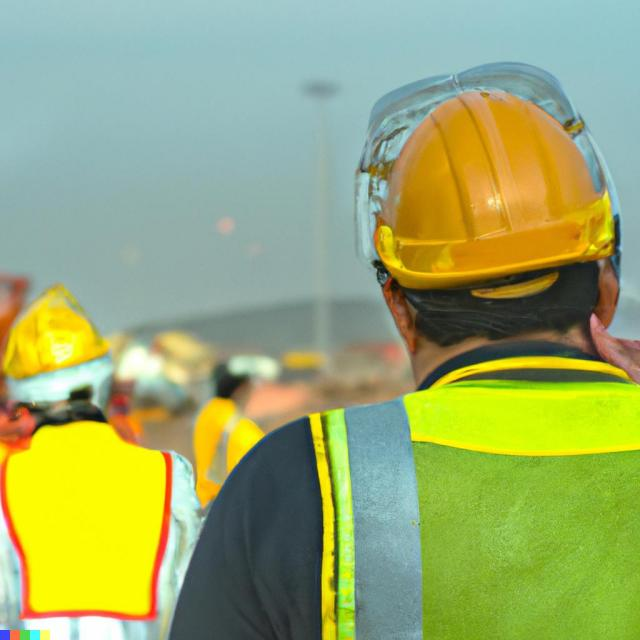Reflective-Jacket: (270, 366, 634, 632), (0, 420, 187, 630)
Safety-Helmet: (353, 74, 624, 292), (0, 284, 118, 390)
